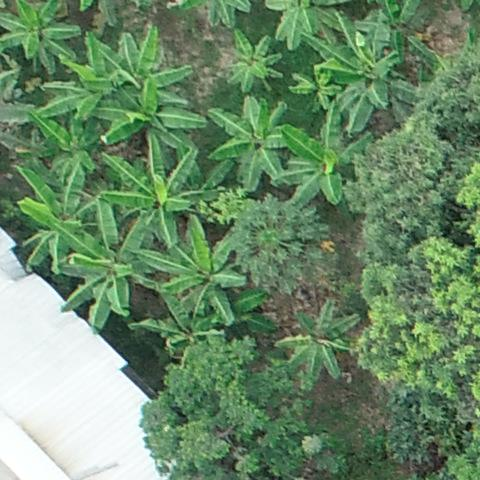Banana-plant: (52, 198, 186, 331), (9, 157, 114, 278), (300, 4, 396, 132), (271, 98, 377, 213), (151, 209, 245, 331), (99, 77, 208, 181), (34, 47, 146, 133), (204, 90, 295, 194), (94, 26, 198, 108), (274, 299, 358, 385), (0, 0, 87, 73), (31, 102, 115, 177), (256, 0, 354, 45), (217, 27, 283, 92), (195, 289, 278, 337)
